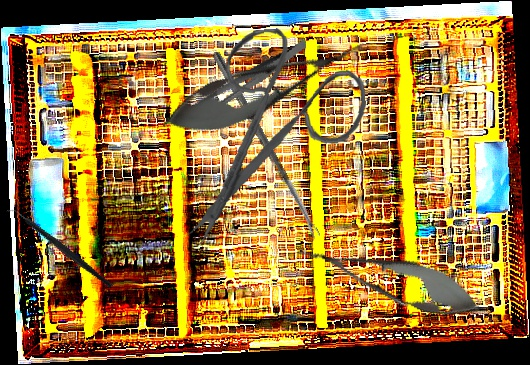Chopper: (3, 183, 115, 314)
Dressing Forceps: (190, 39, 317, 115)
Iris Scissors: (172, 21, 377, 246)
Micro Scissor: (154, 21, 376, 151), (290, 226, 488, 330)
Surgical Spoon: (211, 51, 321, 240)
